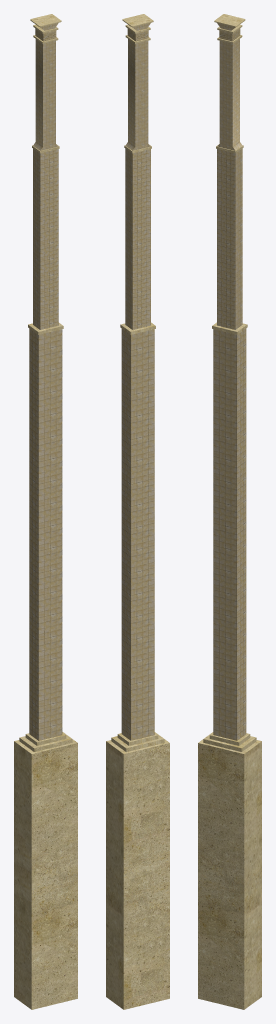
File: bridge_structure_pillar_two.dae
3 views of the same model, side by side, from view 1: azimuth 30°, elevation 25°; view 2: azimuth 210°, elevation 25°; view 3: azimuth 330°, elevation 25° (orthographic).
Parts seen in each view (by area): view 1: bridge_structure_pillar_two; view 2: bridge_structure_pillar_two; view 3: bridge_structure_pillar_two.
Part boxes in pixels (x1=…): bridge_structure_pillar_two: x1=14, y1=14, x2=77, y2=1009; bridge_structure_pillar_two: x1=106, y1=14, x2=169, y2=1009; bridge_structure_pillar_two: x1=198, y1=14, x2=261, y2=1009.
Size of the model in its own units: 14.33 by 9.57 by 290.
Materials: 3 (3 with a texture image).
